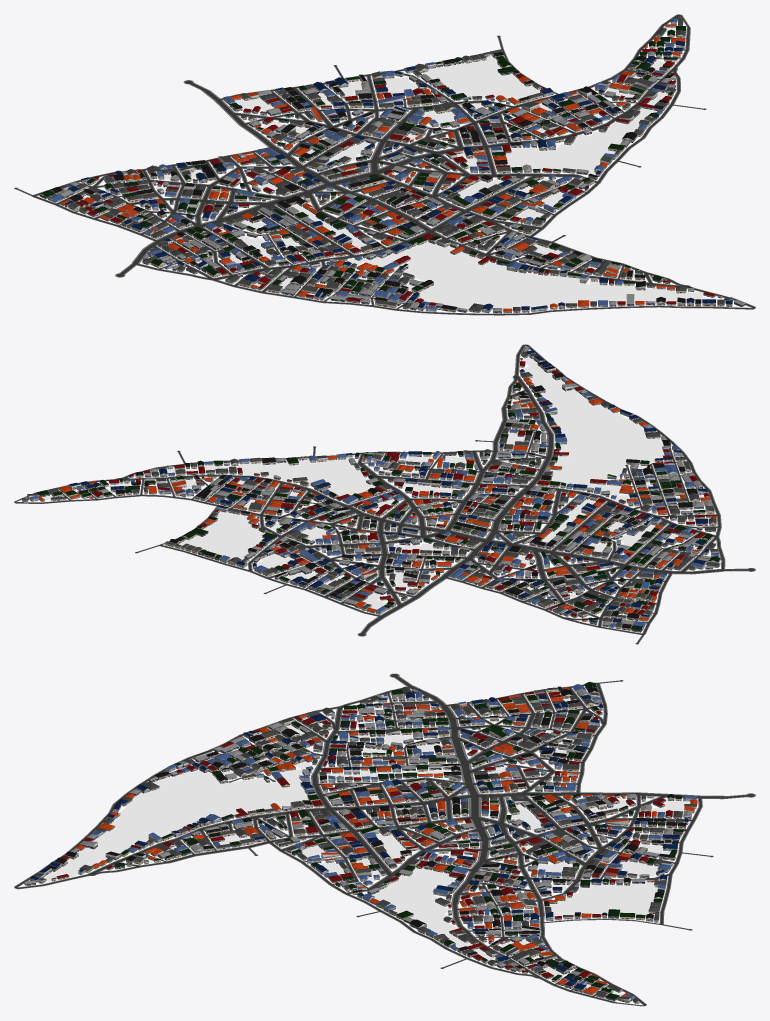
The picture shows the model from 3 angles, top to bottom: view 1: azimuth 30°, elevation 25°; view 2: azimuth 150°, elevation 25°; view 3: azimuth 270°, elevation 25°; orthographic projection. The views are drawn at different scales.
Parts seen in each view (by area): view 1: CityEngineShapeMaterial_m, CityEngineMaterial_m, CityEngineMaterial_1_m, CityEngineMaterial_17_m, CityEngineMaterial_13_m, CityEngineMaterial_7_m, CityEngineMaterial_8_m, CityEngineMaterial_5_m, CityEngineMaterial_10_m, CityEngineMaterial_15_m, CityEngineMaterial_2_m, CityEngineMaterial_11_m (+7 smaller); view 2: CityEngineShapeMaterial_m, CityEngineMaterial_m, CityEngineMaterial_1_m, CityEngineMaterial_17_m, CityEngineMaterial_13_m, CityEngineMaterial_8_m, CityEngineMaterial_5_m, CityEngineMaterial_7_m, CityEngineMaterial_10_m, CityEngineMaterial_15_m, CityEngineMaterial_2_m, CityEngineMaterial_11_m (+7 smaller); view 3: CityEngineShapeMaterial_m, CityEngineMaterial_m, CityEngineMaterial_1_m, CityEngineMaterial_17_m, CityEngineMaterial_13_m, CityEngineMaterial_5_m, CityEngineMaterial_8_m, CityEngineMaterial_7_m, CityEngineMaterial_10_m, CityEngineMaterial_15_m, CityEngineMaterial_2_m, CityEngineMaterial_16_m (+7 smaller).
Boxes of the visible parts, <box> form: CityEngineShapeMaterial_m: <box>83,28,723,311</box>; CityEngineMaterial_m: <box>15,14,754,314</box>; CityEngineMaterial_1_m: <box>14,14,755,315</box>; CityEngineMaterial_17_m: <box>39,26,686,292</box>; CityEngineMaterial_13_m: <box>50,51,701,309</box>; CityEngineMaterial_7_m: <box>62,35,722,308</box>; CityEngineMaterial_8_m: <box>59,49,722,305</box>; CityEngineMaterial_5_m: <box>90,15,732,311</box>; CityEngineMaterial_10_m: <box>57,51,744,311</box>; CityEngineMaterial_15_m: <box>60,24,685,311</box>; CityEngineMaterial_2_m: <box>53,43,732,312</box>; CityEngineMaterial_11_m: <box>48,22,694,313</box>; CityEngineShapeMaterial_m: <box>42,358,710,616</box>; CityEngineMaterial_m: <box>15,344,754,644</box>; CityEngineMaterial_1_m: <box>14,344,755,644</box>; CityEngineMaterial_17_m: <box>37,384,720,630</box>; CityEngineMaterial_13_m: <box>115,361,702,628</box>; CityEngineMaterial_8_m: <box>123,358,716,626</box>; CityEngineMaterial_5_m: <box>21,352,720,614</box>; CityEngineMaterial_7_m: <box>51,360,720,629</box>; CityEngineMaterial_10_m: <box>100,346,718,625</box>; CityEngineMaterial_15_m: <box>38,377,716,620</box>; CityEngineMaterial_2_m: <box>68,352,707,630</box>; CityEngineMaterial_11_m: <box>29,370,719,628</box>; CityEngineShapeMaterial_m: <box>44,699,689,996</box>; CityEngineMaterial_m: <box>15,674,754,1005</box>; CityEngineMaterial_1_m: <box>14,673,755,1006</box>; CityEngineMaterial_17_m: <box>114,681,683,998</box>; CityEngineMaterial_13_m: <box>46,687,686,968</box>; CityEngineMaterial_5_m: <box>35,686,682,1001</box>; CityEngineMaterial_8_m: <box>51,687,696,971</box>; CityEngineMaterial_7_m: <box>51,689,696,993</box>; CityEngineMaterial_10_m: <box>24,689,692,974</box>; CityEngineMaterial_15_m: <box>75,687,697,996</box>; CityEngineMaterial_2_m: <box>29,688,686,992</box>; CityEngineMaterial_16_m: <box>91,684,697,998</box>.
Bounding box in the file's own units: 2300 × 18.36 × 2166.
